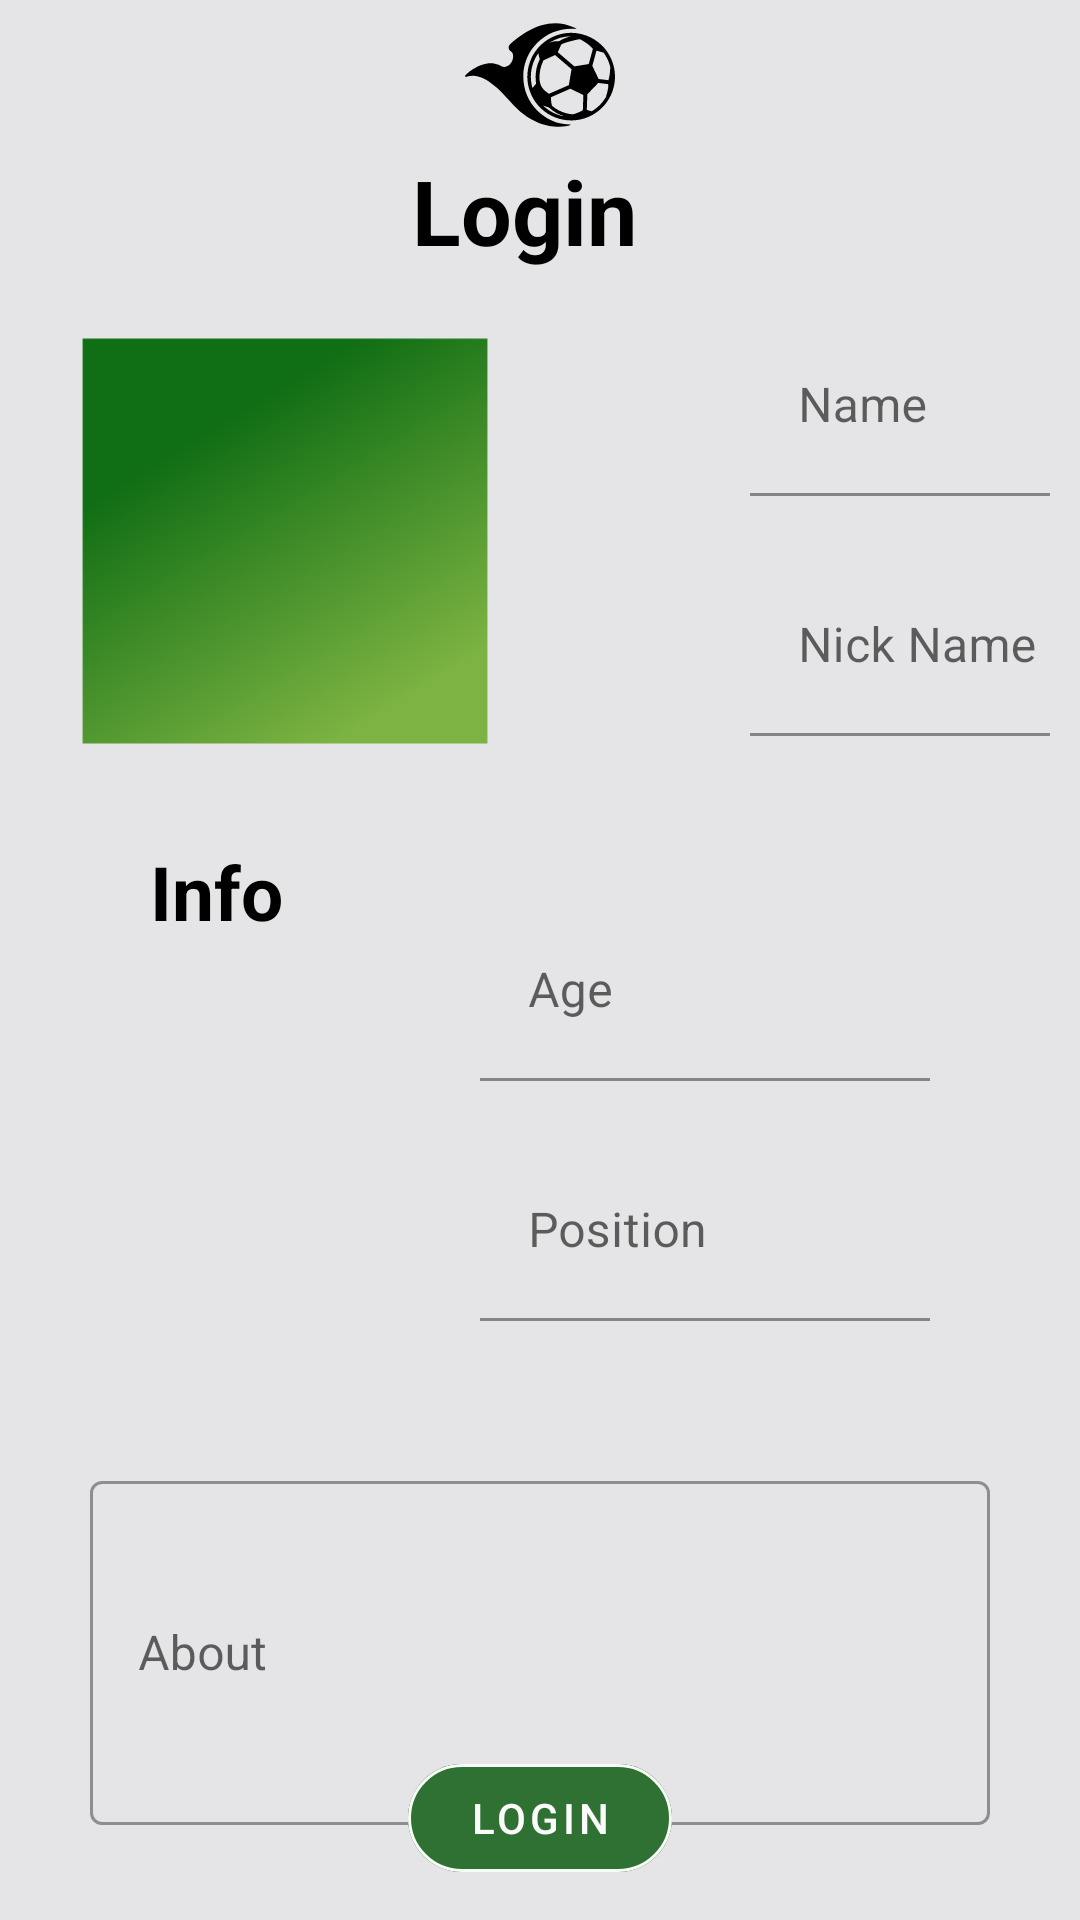

Icons on this 1080×1920 Android screen, each with the point to tap as (x=x, y=y):
soccer: (x=540, y=75)
